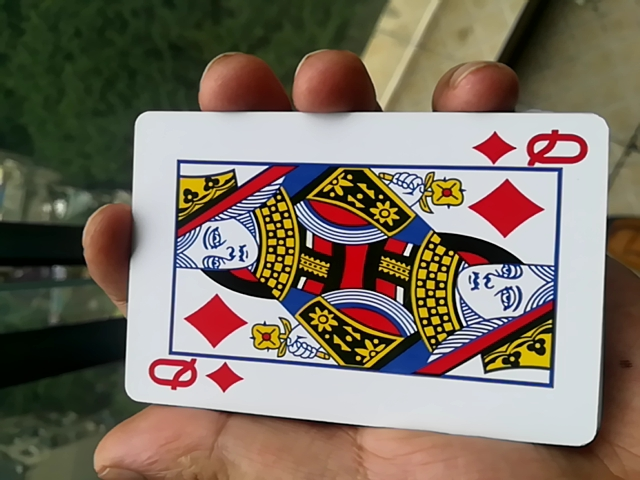fk q: (108, 108, 606, 446)
